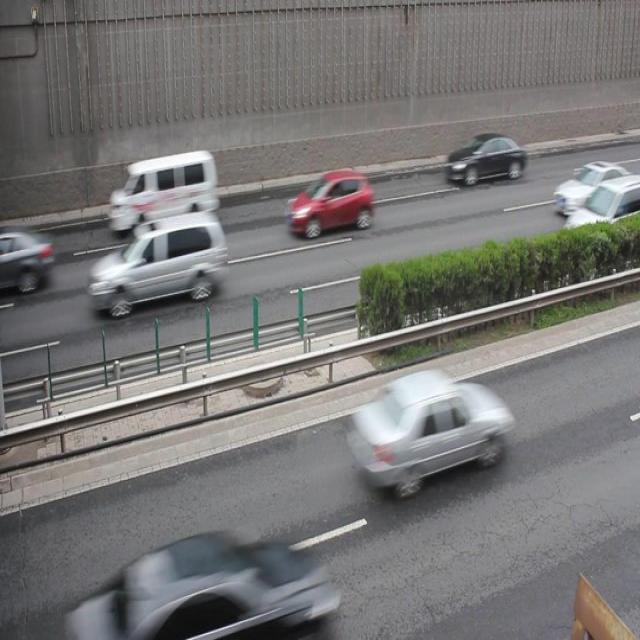car: (92, 530, 331, 640), (349, 371, 508, 492), (87, 213, 224, 314), (562, 176, 640, 248), (288, 170, 371, 237), (552, 158, 627, 216), (445, 131, 522, 185), (1, 229, 50, 296)
truck: (110, 152, 218, 228)
